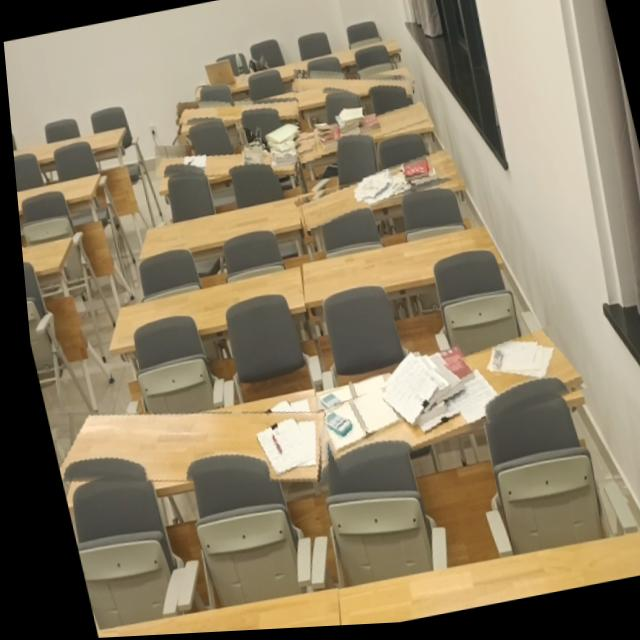Non-empty: (300, 335, 588, 474), (52, 413, 318, 486), (295, 155, 455, 234), (296, 110, 426, 164), (153, 147, 295, 181)
empty: (174, 101, 297, 129), (292, 75, 411, 102)
